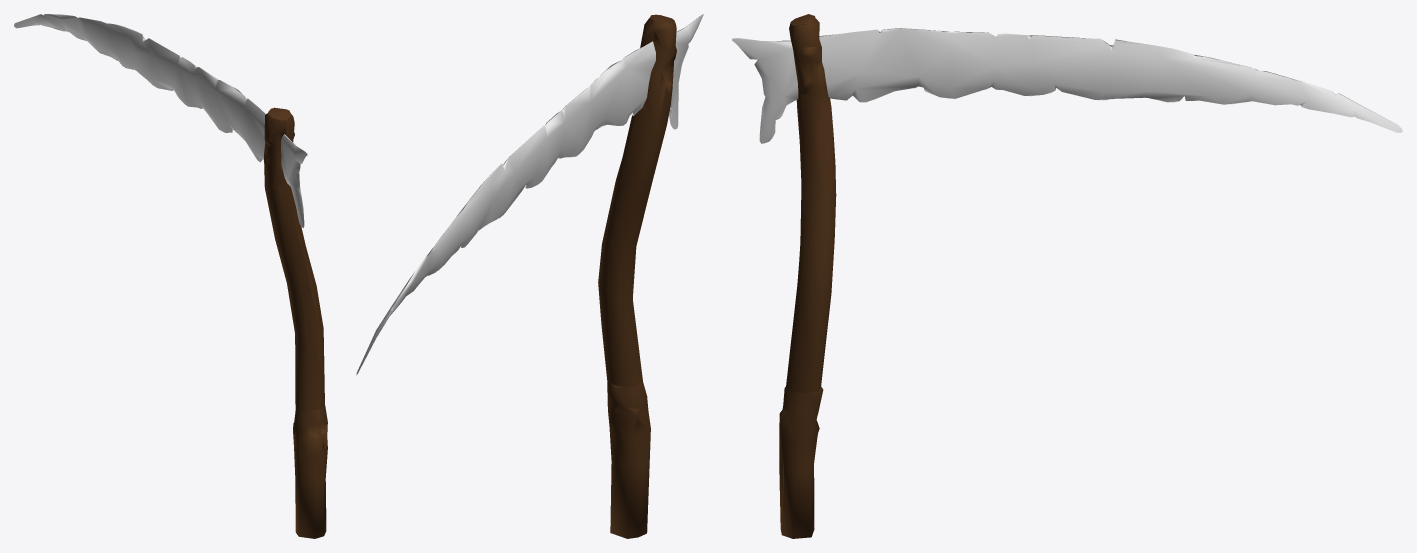
File: scythe edited.fbx
3 views of the same model, side by side, from view 1: azimuth 30°, elevation 25°; view 2: azimuth 150°, elevation 25°; view 3: azimuth 270°, elevation 25° (orthographic). The views are drawn at different scales.
Parts seen in each view (by area): view 1: Scythe; view 2: Scythe; view 3: Scythe.
Part boxes in pixels (box(x1,y1,x2,y2)): Scythe: box(14, 14, 327, 538); Scythe: box(356, 14, 703, 538); Scythe: box(732, 14, 1402, 538).
Bounding box in the file's own units: 32.88 × 231 × 282.
